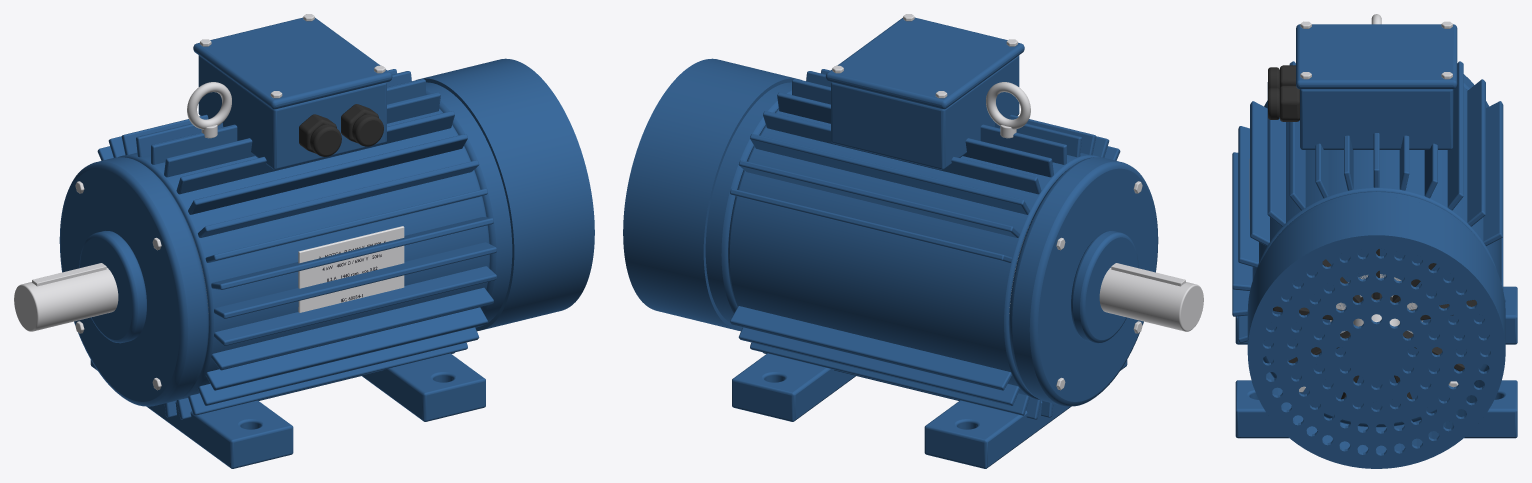
The model's file is motor.glb.
3 renders of one model, left to right at view 1: azimuth 30°, elevation 25°; view 2: azimuth 150°, elevation 25°; view 3: azimuth 270°, elevation 25°, orthographic.
Visible parts, largest first — view 1: frame, end_shield_de, fan_cover, terminal_box, shaft, end_shield_nde, nameplate; view 2: frame, end_shield_de, fan_cover, terminal_box, end_shield_nde, shaft; view 3: fan_cover, frame, terminal_box, end_shield_nde, fan.
Boxes of the visible parts, left/top/right/bottom form: frame: left=90, top=69, right=496, bottom=468; end_shield_de: left=59, top=157, right=208, bottom=406; fan_cover: left=417, top=58, right=594, bottom=331; terminal_box: left=193, top=14, right=392, bottom=169; shaft: left=14, top=263, right=118, bottom=331; end_shield_nde: left=426, top=82, right=512, bottom=327; nameplate: left=298, top=226, right=404, bottom=312; frame: left=728, top=69, right=1127, bottom=468; end_shield_de: left=1009, top=157, right=1158, bottom=406; fan_cover: left=623, top=58, right=800, bottom=331; terminal_box: left=825, top=14, right=1024, bottom=169; end_shield_nde: left=705, top=82, right=791, bottom=327; shaft: left=1099, top=263, right=1203, bottom=331; fan_cover: left=1247, top=196, right=1505, bottom=468; frame: left=1232, top=14, right=1517, bottom=438; terminal_box: left=1268, top=21, right=1457, bottom=149; end_shield_nde: left=1263, top=191, right=1490, bottom=427; fan: left=1273, top=249, right=1476, bottom=399.
Bounding box in the file's own units: 0.288 × 0.181 × 0.1417.
